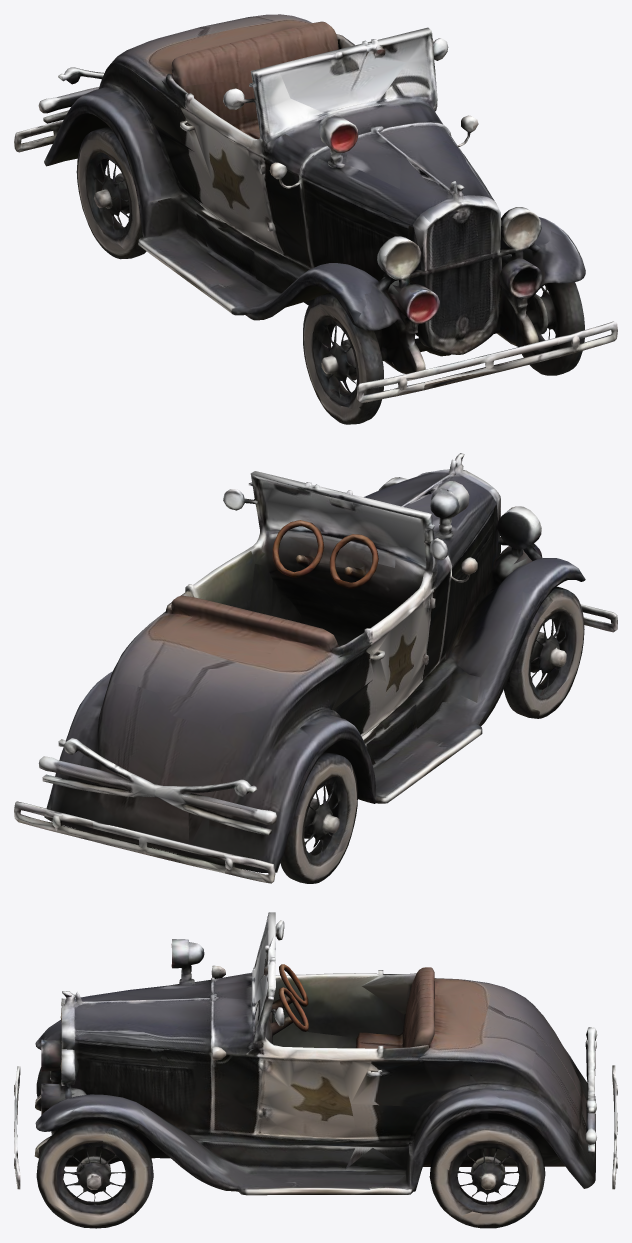
The model's file is mount-ford-model-a-police.glb.
3 views of the same model, one above another, from view 1: azimuth 30°, elevation 25°; view 2: azimuth 150°, elevation 25°; view 3: azimuth 270°, elevation 25° (orthographic). The views are drawn at different scales.
Visible parts, largest first — view 1: model; view 2: model; view 3: model.
Boxes of the visible parts, x1,y1,x2,y2 form: model: (14, 14, 617, 424); model: (14, 453, 617, 883); model: (14, 912, 617, 1228).
Size of the model in its own units: 1.72 by 1.73 by 4.
Materials: 1 (1 with a texture image).
